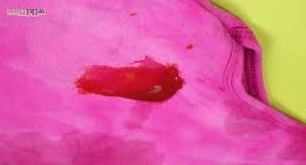lipstick: (71, 57, 187, 105), (184, 45, 194, 53), (129, 12, 140, 19)
